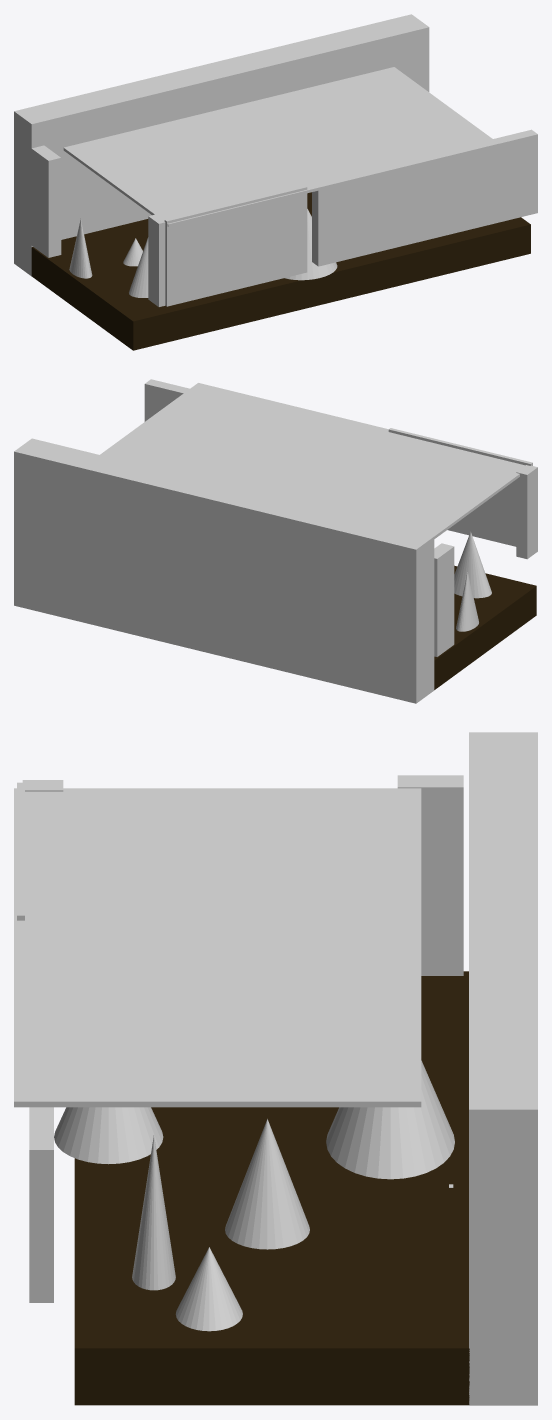
The model's file is cave6.glb.
3 renders of one model, top to bottom at view 1: azimuth 30°, elevation 25°; view 2: azimuth 150°, elevation 25°; view 3: azimuth 270°, elevation 25°, orthographic. The views are drawn at different scales.
Parts seen in each view (by area): view 1: Cube.028, Cube.002, Cube, Cube.023, Cube.022, Cube.017, Cube.025, Cone.007, Cone.009, Cone.004; view 2: Cube.002, Cube.028, Cube, Cube.022, Cube.017, Cube.025, Cone.004, Cube.023, Cone.009; view 3: Cube.028, Cube, Cube.002, Cube.017, Cone, Cone.002, Cone.007, Cube.023, Cone.010, Cone.006, Cube.022.
Boxes of the visible parts, x1,y1,x2,y2 form: Cube.028: [63, 67, 499, 226]; Cube.002: [14, 14, 429, 276]; Cube: [31, 192, 530, 350]; Cube.023: [312, 129, 537, 266]; Cube.022: [164, 185, 307, 306]; Cube.017: [31, 145, 61, 257]; Cube.025: [148, 213, 166, 306]; Cone.007: [284, 209, 337, 280]; Cone.009: [69, 218, 92, 278]; Cone.004: [129, 237, 148, 297]; Cube.002: [14, 438, 434, 703]; Cube.028: [100, 383, 525, 538]; Cube: [434, 565, 536, 689]; Cube.022: [388, 428, 532, 546]; Cube.017: [434, 543, 454, 656]; Cube.025: [516, 465, 537, 559]; Cone.004: [454, 532, 491, 598]; Cube.023: [144, 379, 189, 421]; Cone.009: [456, 571, 478, 631]; Cube.028: [14, 788, 421, 1107]; Cube: [74, 971, 469, 1405]; Cube.002: [469, 732, 537, 1405]; Cube.017: [397, 775, 463, 975]; Cone: [326, 1060, 454, 1179]; Cone.002: [225, 1119, 309, 1249]; Cone.007: [54, 1107, 163, 1164]; Cube.023: [29, 1107, 53, 1302]; Cone.010: [132, 1135, 175, 1290]; Cone.006: [175, 1247, 242, 1331]; Cube.022: [17, 782, 24, 920].
Bounding box in the file's own units: 28.54 × 10.41 × 16.7.
